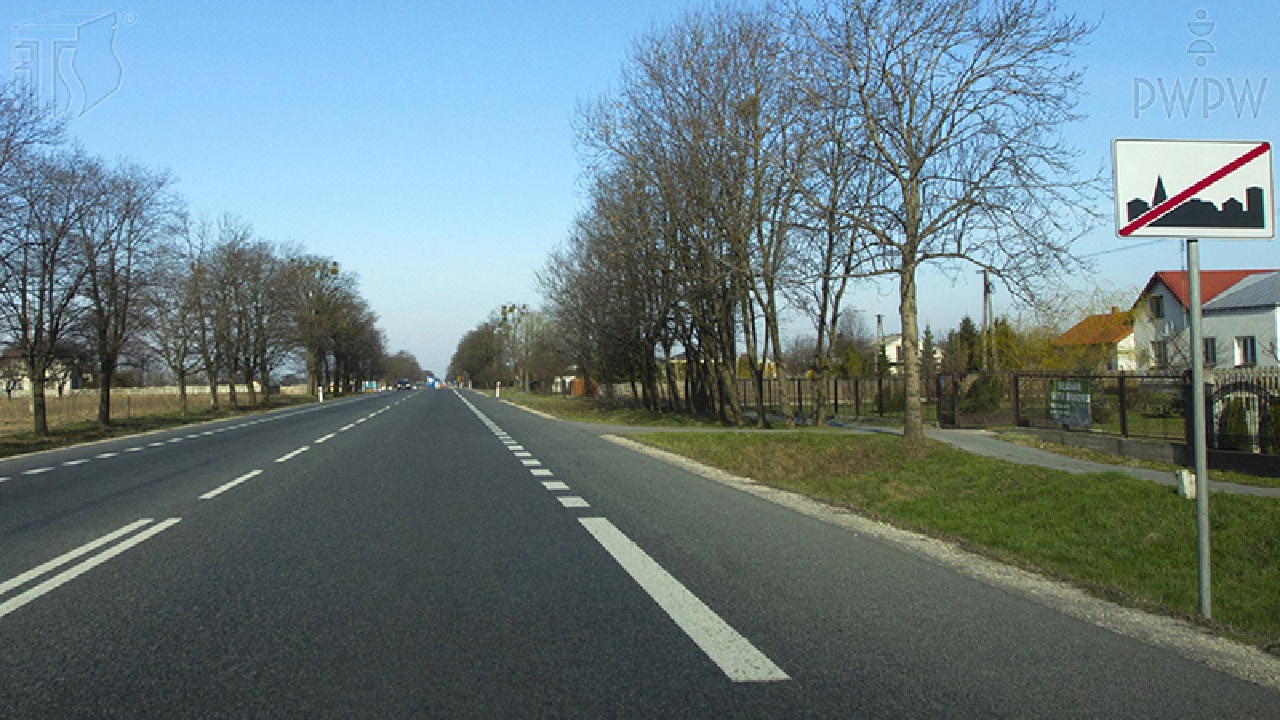D43: (1111, 136, 1276, 243)
